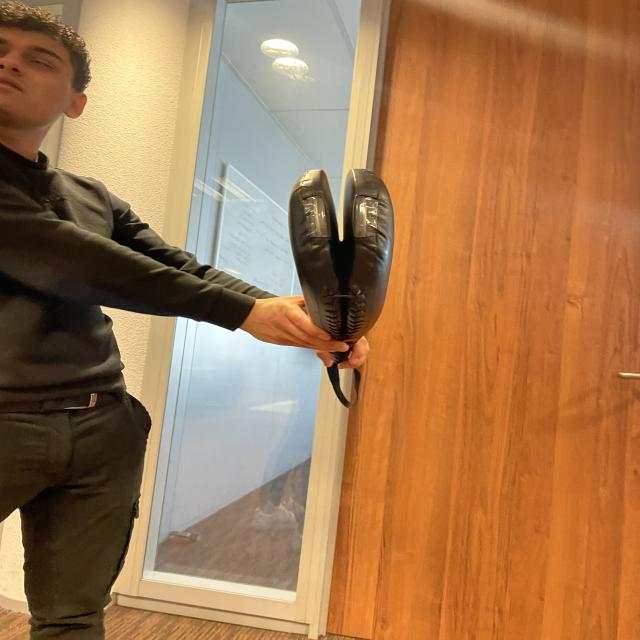paddle: (290, 168, 389, 339)
